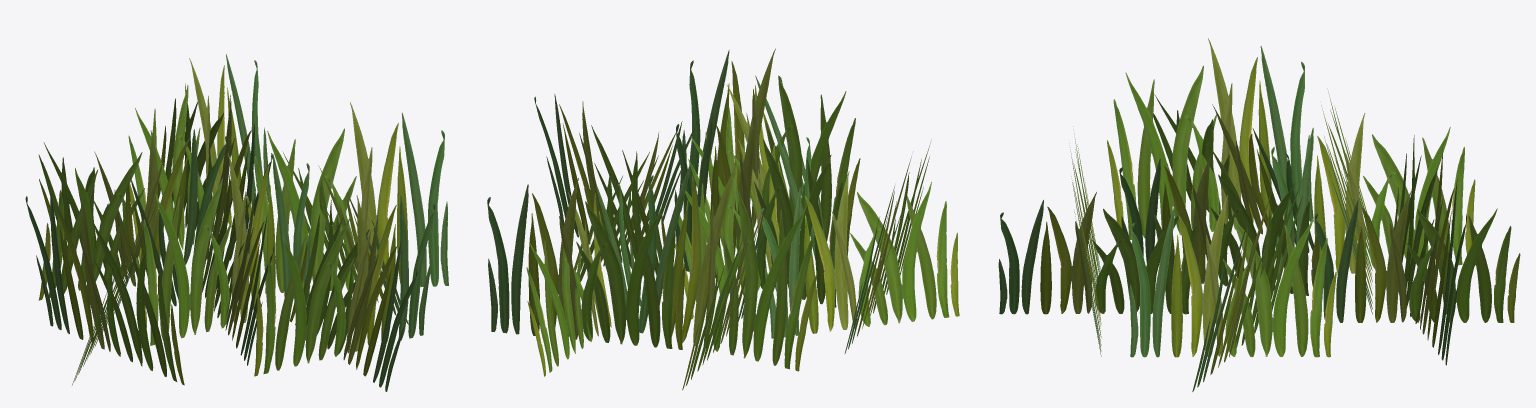
Rendered from SM_Grass_02.fbx.
3 renders of one model, left to right at view 1: azimuth 30°, elevation 25°; view 2: azimuth 150°, elevation 25°; view 3: azimuth 270°, elevation 25°, orthographic. The views are drawn at different scales.
Visible parts, largest first — view 1: Grass_Bundle; view 2: Grass_Bundle; view 3: Grass_Bundle.
Boxes of the visible parts, left/top/right/bottom form: Grass_Bundle: left=25, top=54, right=448, bottom=391; Grass_Bundle: left=487, top=48, right=959, bottom=390; Grass_Bundle: left=998, top=38, right=1520, bottom=391.
Size of the model in its own units: 50.13 by 21.82 by 54.11.
Materials: 1 (1 with a texture image).
